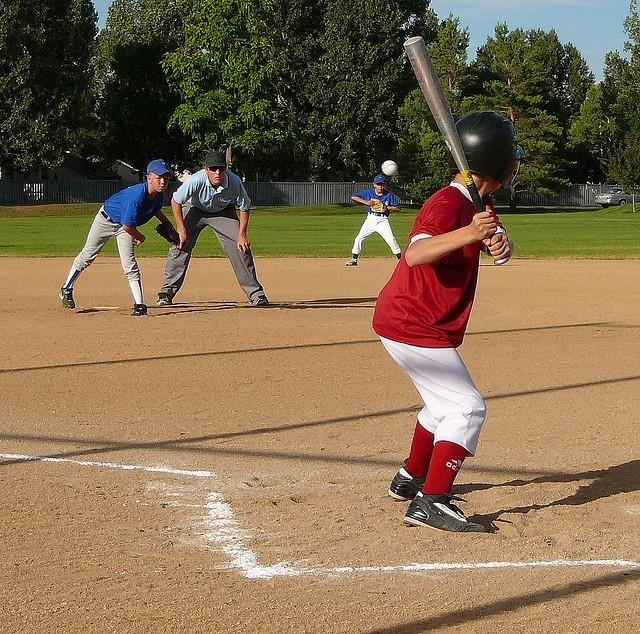car: (596, 188, 632, 207)
